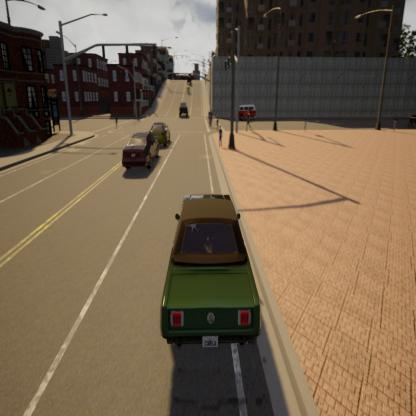Cars: (161, 178, 268, 363), (114, 127, 166, 180), (142, 113, 174, 152), (232, 94, 259, 126), (174, 99, 192, 124), (182, 80, 194, 97), (183, 71, 196, 86)
Pedestrian: (214, 123, 226, 152), (245, 105, 254, 139), (207, 103, 214, 132)
